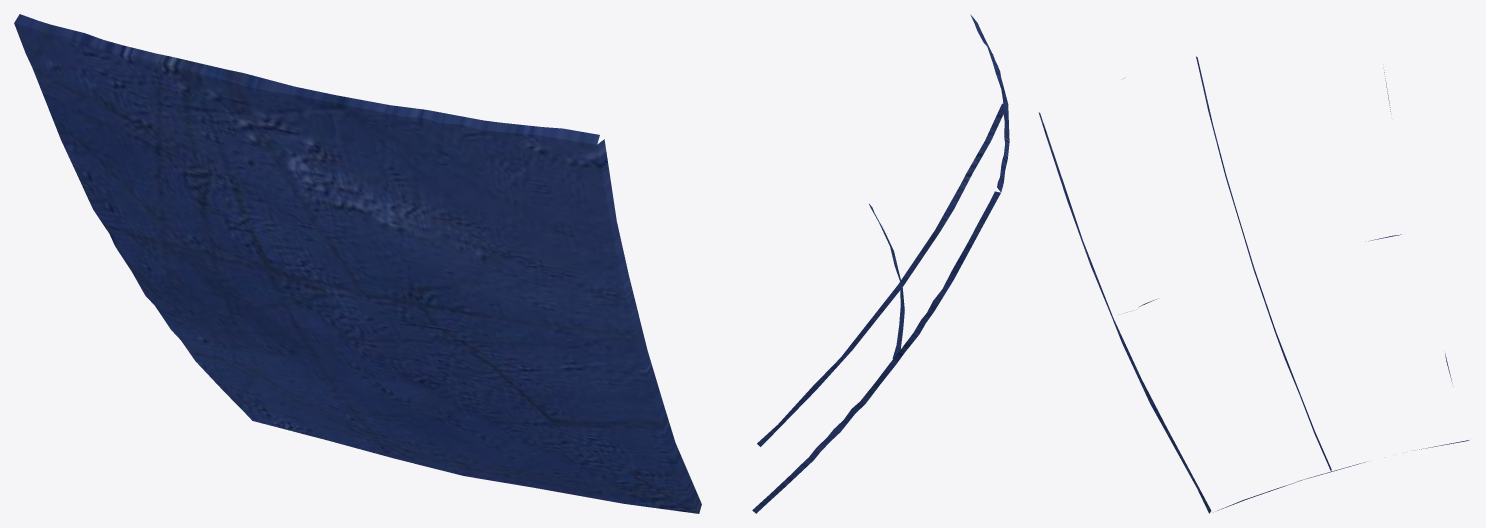
3 renders of one model, left to right at view 1: azimuth 30°, elevation 25°; view 2: azimuth 150°, elevation 25°; view 3: azimuth 270°, elevation 25°, orthographic. The views are drawn at different scales.
Size of the model in its own units: 2283641 by 2102763 by 2468048.
Materials: 1 (1 with a texture image).
